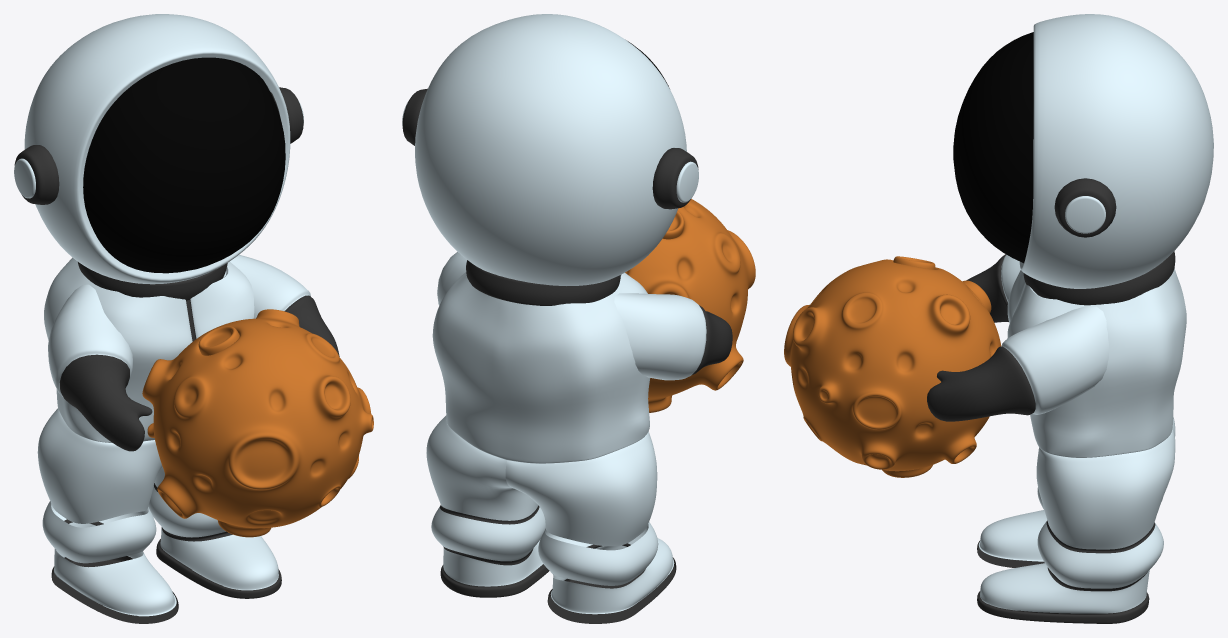
File: astronaut4.glb
3 renders of one model, left to right at view 1: azimuth 30°, elevation 25°; view 2: azimuth 150°, elevation 25°; view 3: azimuth 270°, elevation 25°, orthographic. The views are drawn at different scales.
Parts seen in each view (by area): view 1: Roundcube, Head.001, Head, Leg_R, Body, Leg_L, Arm_R.001, Arm_R, Arm_L, Body.001, Head.003, Leg_R.001 (+4 smaller); view 2: Head, Body, Leg_R, Leg_L, Roundcube, Arm_R, Body.001, Leg_R.001, Head.003, Arm_R.001, Leg_L.001, Leg_L.002 (+3 smaller); view 3: Head, Roundcube, Leg_L, Body, Head.001, Arm_L, Arm_L.001, Body.001, Leg_R, Leg_L.001, Head.002, Head.004 (+2 smaller).
Part boxes in pixels (x1,y1,x2,y2): Roundcube: [142, 309, 373, 537]; Head.001: [83, 57, 285, 273]; Head: [24, 14, 290, 284]; Leg_R: [37, 408, 176, 616]; Body: [44, 257, 254, 442]; Leg_L: [148, 466, 278, 590]; Arm_R.001: [59, 354, 152, 451]; Arm_R: [48, 284, 132, 397]; Arm_L: [223, 254, 310, 318]; Body.001: [78, 262, 227, 300]; Head.003: [14, 145, 59, 204]; Leg_R.001: [51, 556, 178, 623]; Head: [415, 14, 686, 285]; Body: [432, 272, 650, 463]; Leg_R: [505, 431, 674, 614]; Leg_L: [426, 415, 545, 586]; Roundcube: [625, 199, 755, 412]; Arm_R: [614, 293, 706, 380]; Body.001: [466, 260, 620, 305]; Leg_R.001: [547, 557, 676, 623]; Head.003: [652, 148, 698, 209]; Arm_R.001: [692, 305, 732, 374]; Leg_L.001: [440, 564, 549, 597]; Leg_L.002: [440, 505, 539, 565]; Head: [1019, 14, 1213, 288]; Roundcube: [784, 256, 1001, 477]; Leg_L: [980, 428, 1175, 613]; Body: [1007, 268, 1186, 457]; Head.001: [953, 32, 1033, 263]; Arm_L: [1001, 306, 1108, 414]; Arm_L.001: [927, 346, 1035, 421]; Body.001: [1023, 251, 1175, 305]; Leg_R: [978, 417, 1175, 561]; Leg_L.001: [977, 591, 1149, 623]; Head.002: [1054, 178, 1116, 237]; Head.004: [1065, 196, 1105, 233].
Bounding box in the file's own units: 1.5 × 2.89 × 2.05.
